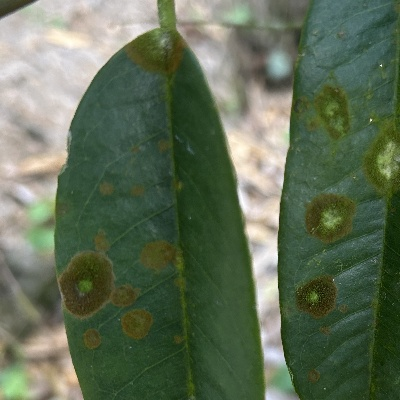Leaf_Algal: (52, 0, 269, 400)
